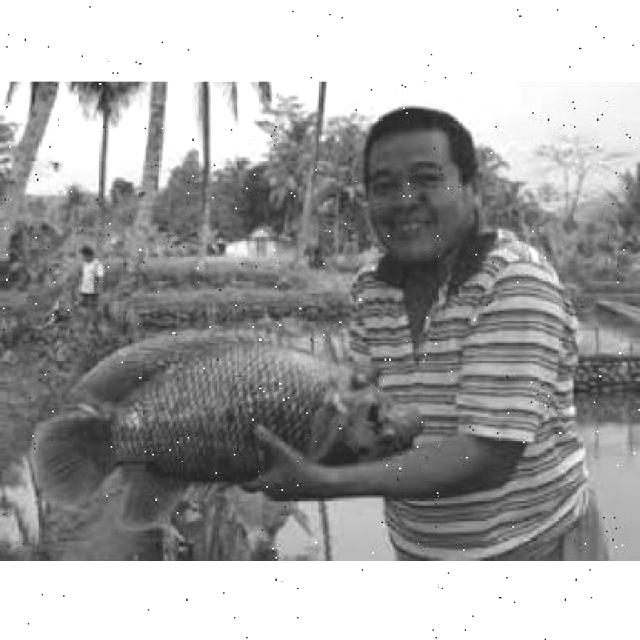gurame: (31, 342, 418, 516)
